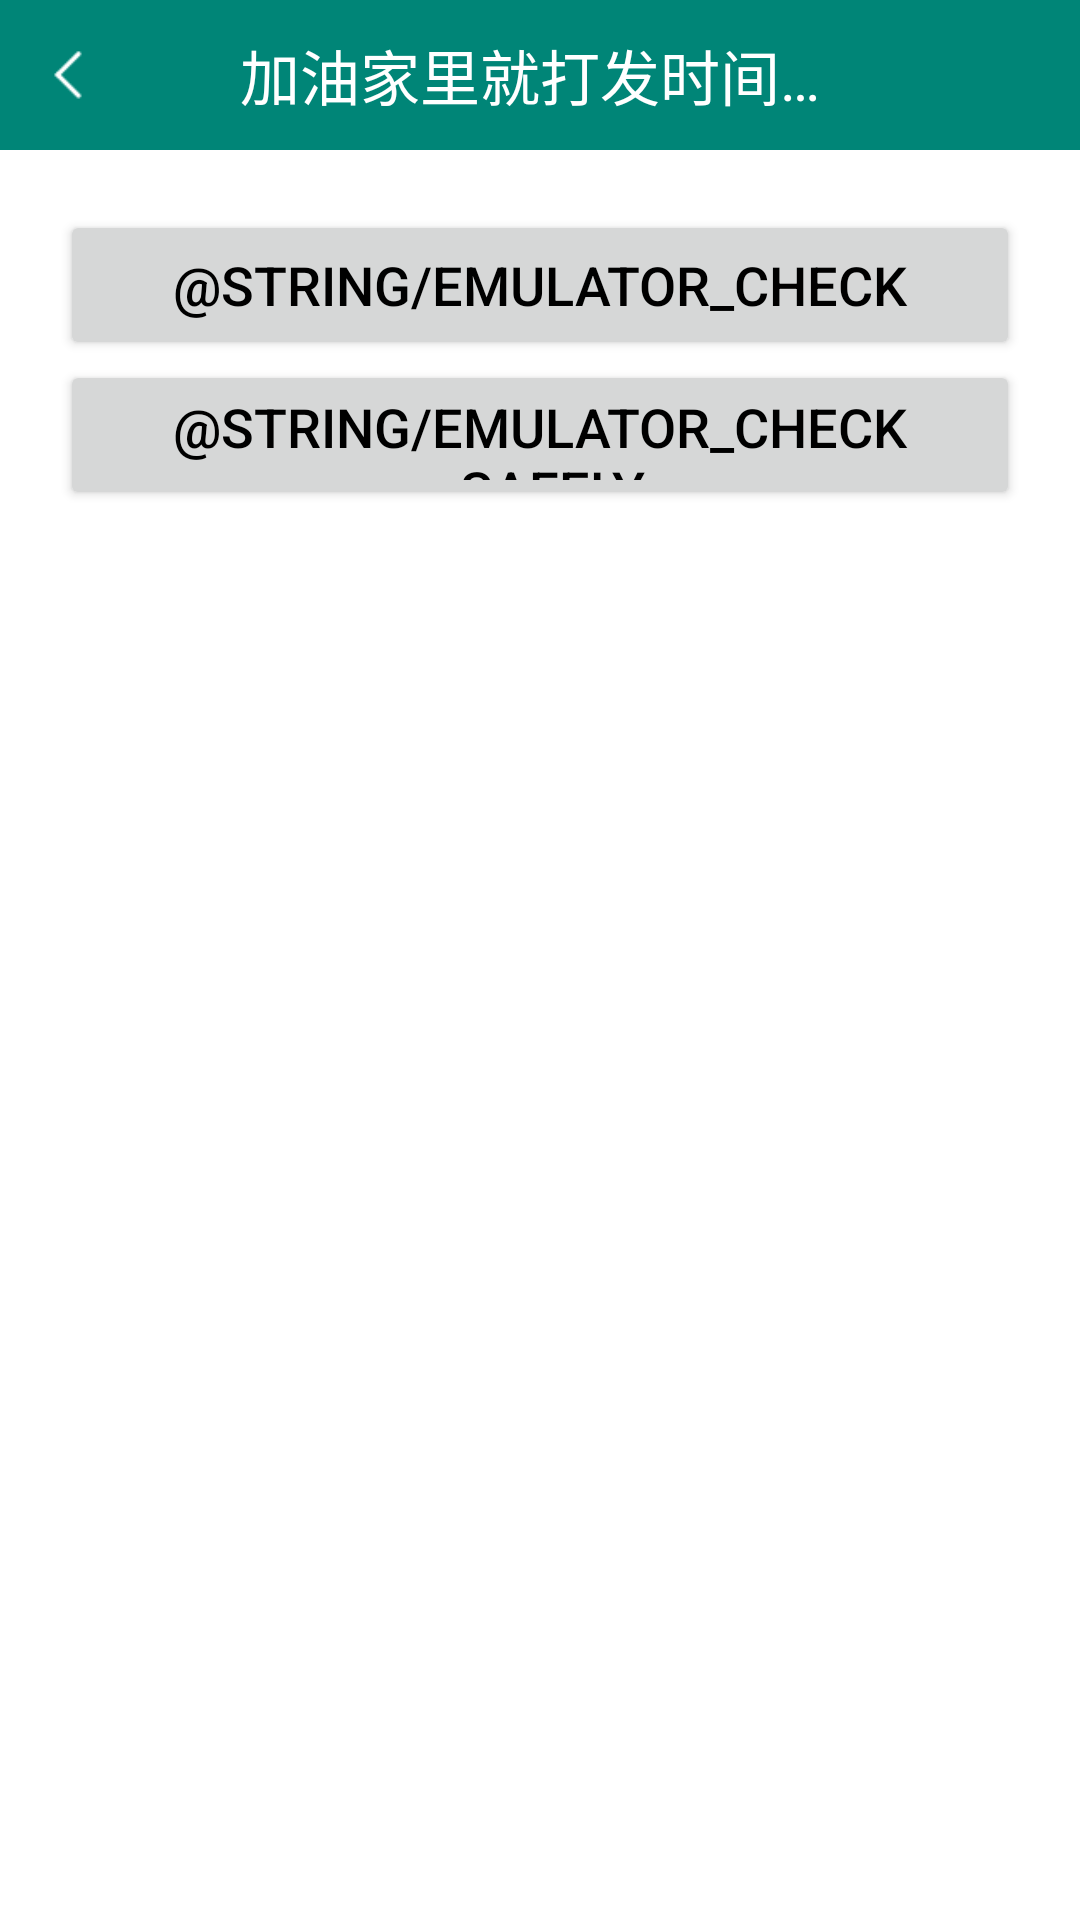

Point at icon controls on the screen. Image size 1080x1920, points as [x,y].
back: [68,75]
